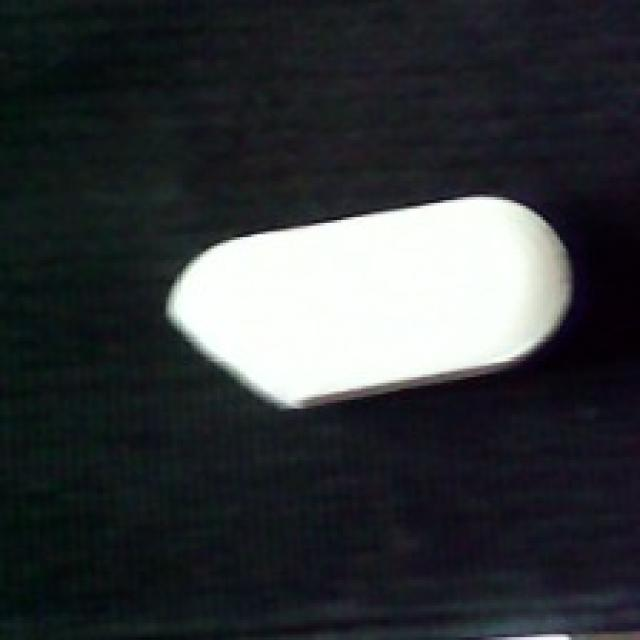defected: (160, 194, 583, 408)
